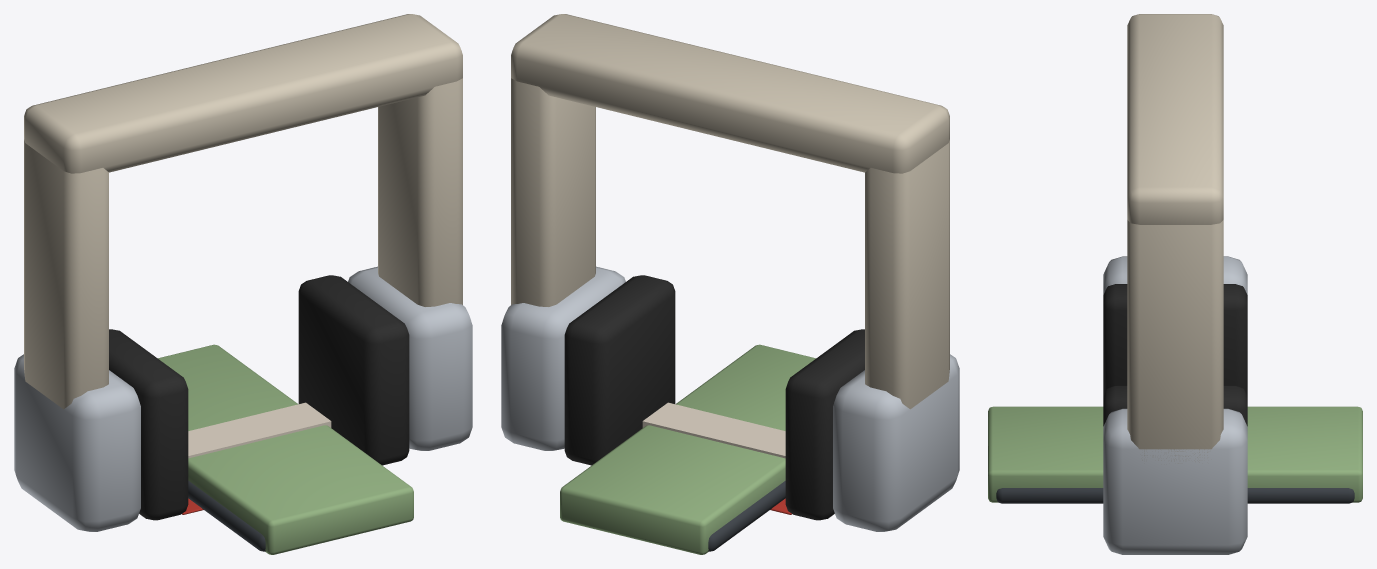
The model's file is itens.glb.
3 renders of one model, left to right at view 1: azimuth 30°, elevation 25°; view 2: azimuth 150°, elevation 25°; view 3: azimuth 270°, elevation 25°, orthographic. The views are drawn at different scales.
Visible parts, largest first — view 1: fone_ouvido, dinheiro, celular; view 2: fone_ouvido, dinheiro, celular; view 3: fone_ouvido, dinheiro, celular.
Boxes of the visible parts, <box> form: fone_ouvido: <box>14,14,472,531</box>; dinheiro: <box>158,344,413,554</box>; celular: <box>188,481,265,551</box>; fone_ouvido: <box>501,14,959,531</box>; dinheiro: <box>560,344,815,554</box>; celular: <box>708,481,785,551</box>; fone_ouvido: <box>1103,14,1247,554</box>; dinheiro: <box>988,406,1362,502</box>; celular: <box>996,488,1354,503</box>.
Bounding box in the file's own units: 0.18 × 0.17 × 0.156.
